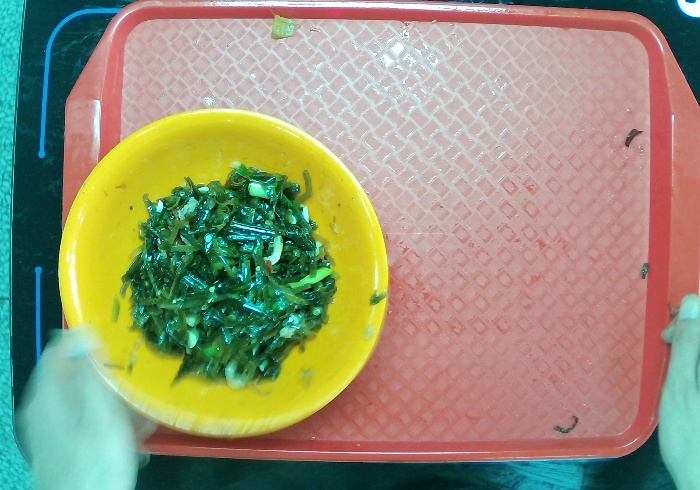YKMZ-Ju_Se_Tang_Wan: (47, 112, 388, 453)
